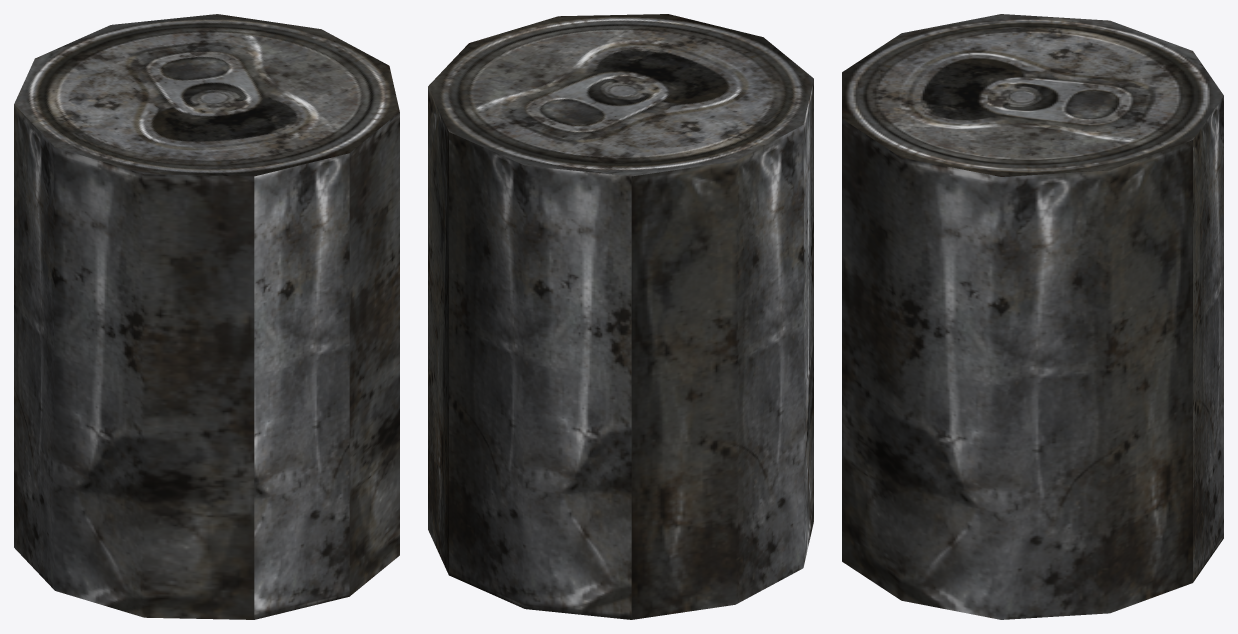
File: FoodCan.fbx
3 renders of one model, left to right at view 1: azimuth 30°, elevation 25°; view 2: azimuth 150°, elevation 25°; view 3: azimuth 270°, elevation 25°, orthographic.
Visible parts, largest first — view 1: FoodCan; view 2: FoodCan; view 3: FoodCan.
Boxes of the visible parts, left/top/right/bottom form: FoodCan: left=14, top=14, right=399, bottom=619; FoodCan: left=428, top=14, right=813, bottom=619; FoodCan: left=842, top=14, right=1223, bottom=619.
Bounding box in the file's own units: 1.41 × 1.78 × 1.39.
Materials: 1 (1 with a texture image).
